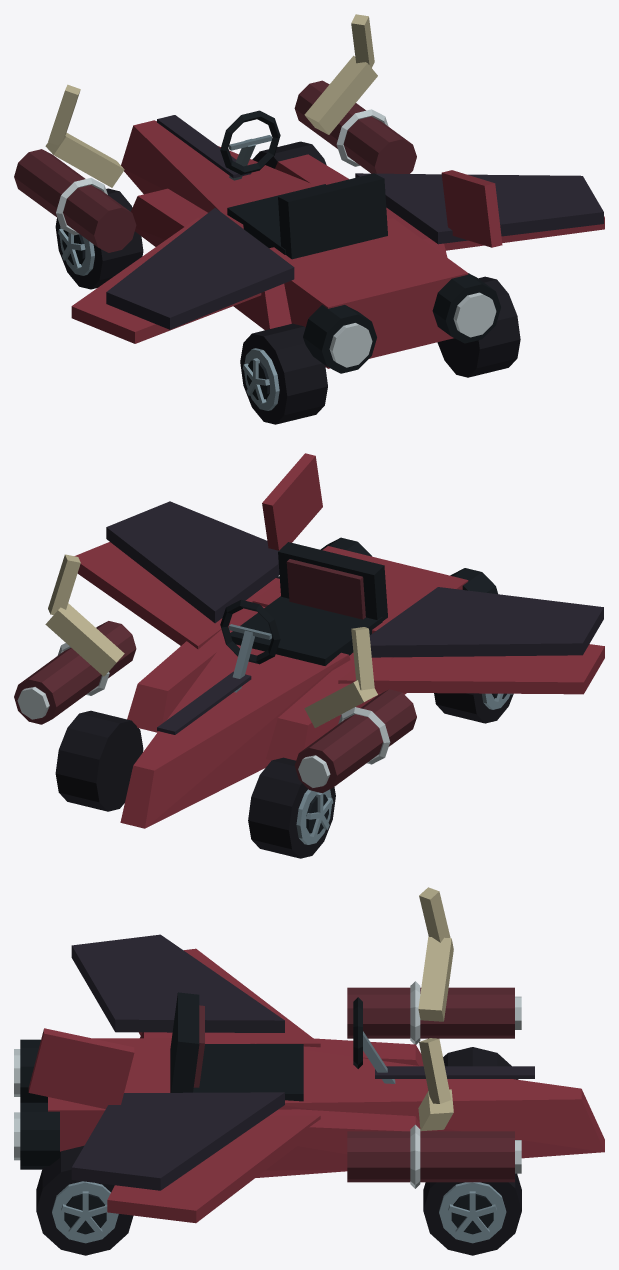
File: kart.glb
3 views of the same model, one above another, from view 1: azimuth 30°, elevation 25°; view 2: azimuth 150°, elevation 25°; view 3: azimuth 270°, elevation 25° (orthographic). The views are drawn at different scales.
Parts seen in each view (by area): view 1: identity-starfighter-starfighter-flight-planform, identity-starfighter-motif-wings, identity-starfighter-motif-plasma, identity-starfighter-driver-cockpit, wheel-rear-left, identity-starfighter-motif-horns, wheel-rear-right, wheel-front-left, wheel-front-right; view 2: identity-starfighter-starfighter-flight-planform, identity-starfighter-motif-wings, identity-starfighter-driver-cockpit, identity-starfighter-motif-plasma, wheel-front-right, wheel-front-left, identity-starfighter-motif-horns, wheel-rear-left; view 3: identity-starfighter-starfighter-flight-planform, identity-starfighter-motif-wings, identity-starfighter-motif-plasma, identity-starfighter-driver-cockpit, wheel-rear-right, wheel-front-right, identity-starfighter-motif-horns, wheel-front-left.
Boxes of the visible parts, x1,y1,x2,y2 form: identity-starfighter-starfighter-flight-planform: (71,115,604,373); identity-starfighter-motif-wings: (106,173,603,329); identity-starfighter-motif-plasma: (14,80,416,252); identity-starfighter-driver-cockpit: (220,110,387,259); wheel-rear-left: (240,323,327,424); identity-starfighter-motif-horns: (45,14,377,187); wheel-rear-right: (437,276,520,377); wheel-front-left: (55,188,143,289); wheel-front-right: (252,141,326,168); identity-starfighter-starfighter-flight-planform: (74,453,604,828); identity-starfighter-motif-wings: (106,501,603,657); identity-starfighter-driver-cockpit: (220,542,387,692); identity-starfighter-motif-plasma: (14,621,416,793); wheel-front-right: (55,710,143,811); wheel-front-left: (248,757,335,858); identity-starfighter-motif-horns: (45,554,377,727); wheel-rear-left: (434,693,513,723); identity-starfighter-starfighter-flight-planform: (14,948,604,1223); identity-starfighter-motif-wings: (71,934,284,1190); identity-starfighter-motif-plasma: (347,981,521,1188); identity-starfighter-driver-cockpit: (170,992,395,1101); wheel-rear-right: (36,1146,133,1255); wheel-front-right: (423,1173,521,1255); identity-starfighter-motif-horns: (418,887,453,1131); wheel-front-left: (443,1047,518,1079).
Size of the model in its own units: 3.14 by 1.29 by 2.99.
